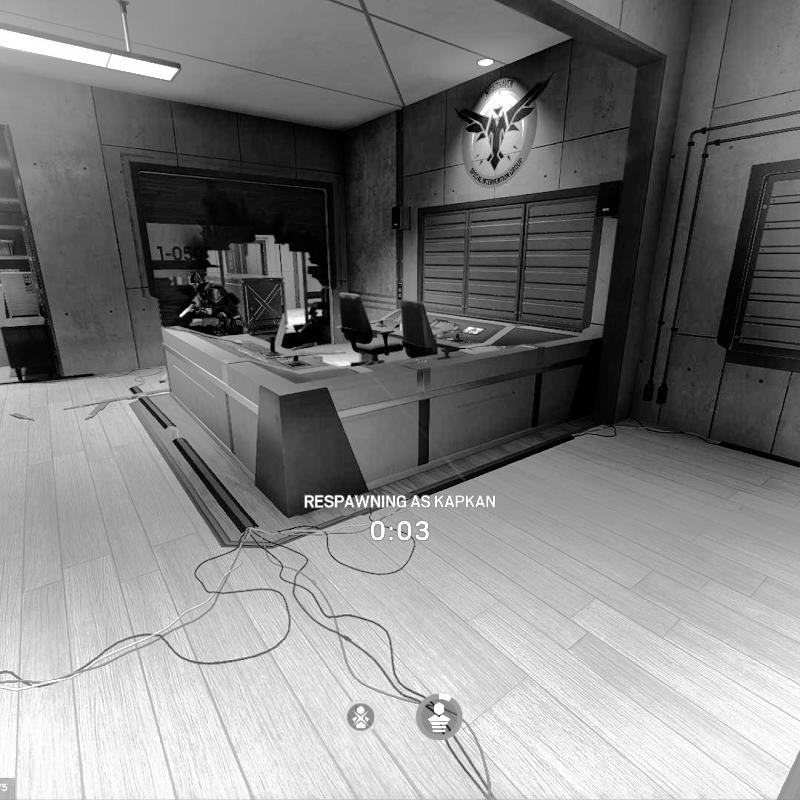Character: (177, 270, 246, 338)
Head: (189, 273, 205, 290)
